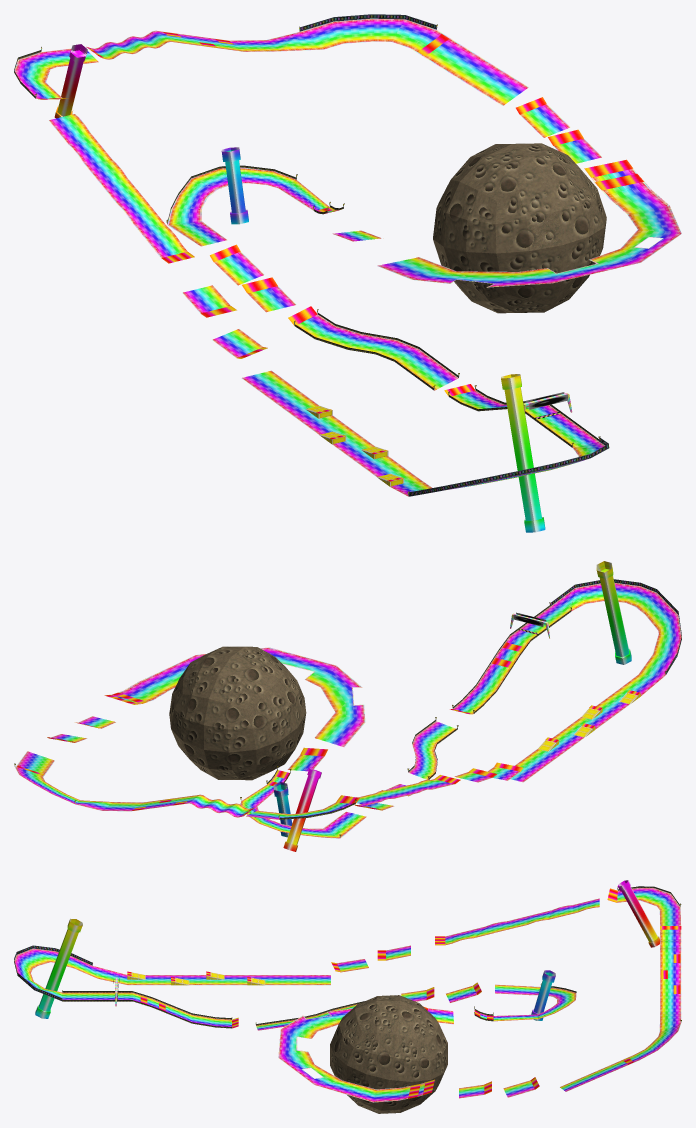
The picture shows the model from 3 angles, top to bottom: view 1: azimuth 30°, elevation 25°; view 2: azimuth 150°, elevation 25°; view 3: azimuth 270°, elevation 25°; orthographic projection. The views are drawn at different scales.
Parts seen in each view (by area): view 1: _2_py.001, _9_py.001, _8_py.001, _3_py.001, _5_py.001, _4_py.001, _6_py.001; view 2: _2_py.001, _9_py.001, _8_py.001, _3_py.001, _5_py.001, _6_py.001, _4_py.001; view 3: _2_py.001, _9_py.001, _8_py.001, _3_py.001, _5_py.001, _6_py.001, _4_py.001.
Boxes of the visible parts, x1,y1,x2,y2 form: _2_py.001: [14, 18, 681, 496]; _9_py.001: [433, 143, 606, 313]; _8_py.001: [54, 44, 545, 532]; _3_py.001: [38, 32, 643, 481]; _5_py.001: [14, 50, 599, 447]; _4_py.001: [299, 14, 609, 496]; _6_py.001: [305, 405, 404, 486]; _2_py.001: [15, 583, 681, 838]; _9_py.001: [169, 646, 306, 780]; _8_py.001: [273, 561, 631, 851]; _3_py.001: [17, 642, 640, 816]; _5_py.001: [240, 605, 571, 819]; _6_py.001: [537, 692, 640, 751]; _4_py.001: [550, 579, 681, 674]; _2_py.001: [14, 888, 681, 1102]; _9_py.001: [330, 995, 447, 1113]; _8_py.001: [35, 880, 659, 1020]; _3_py.001: [127, 888, 681, 1098]; _5_py.001: [62, 886, 680, 1028]; _6_py.001: [127, 972, 265, 985]; _4_py.001: [14, 945, 92, 1000].
Bounding box in the file's own units: 5173438 × 2114063 × 9354375.
Materials: 11 (11 with a texture image).
